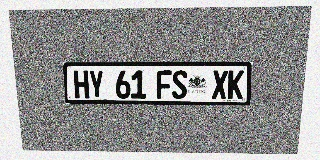1: (131, 70, 146, 99)
6: (115, 70, 131, 99)
F: (156, 70, 172, 99)
H: (73, 70, 89, 98)
K: (227, 70, 244, 99)
S: (172, 70, 187, 99)
X: (212, 70, 228, 99)
Y: (88, 70, 104, 98)
